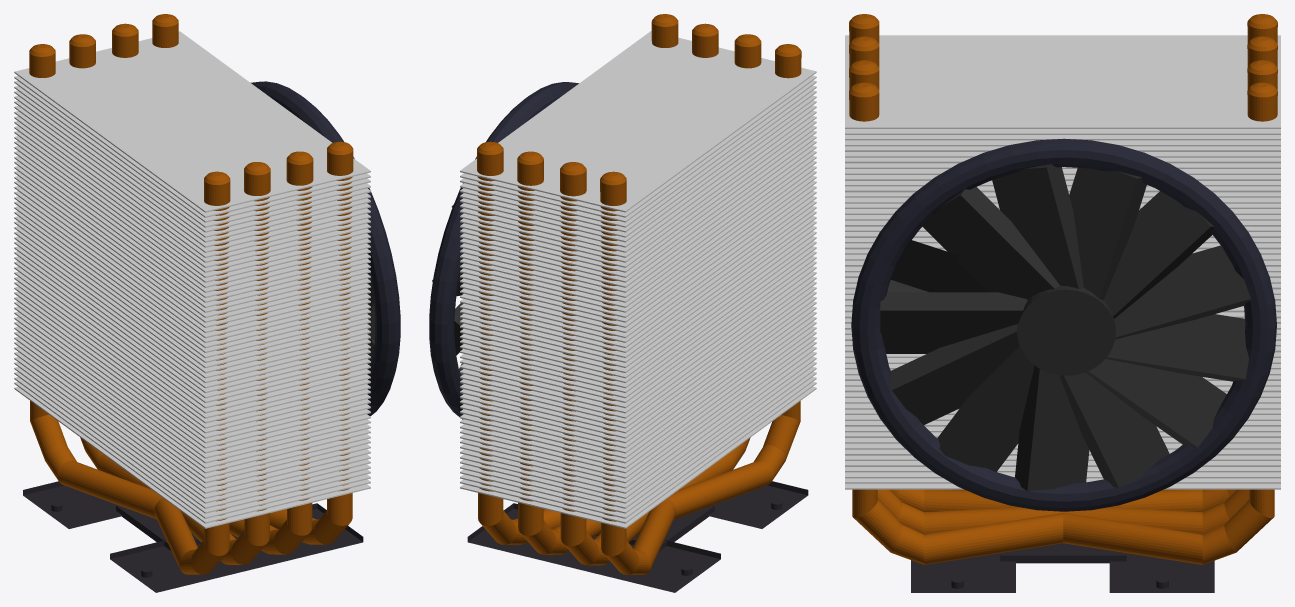
The model's file is Cooler CPU.glb.
The picture shows the model from 3 angles, left to right: view 1: azimuth 30°, elevation 25°; view 2: azimuth 150°, elevation 25°; view 3: azimuth 270°, elevation 25°; orthographic projection. The views are drawn at different scales.
Visible parts, largest first — view 1: Cooler CPU; view 2: Cooler CPU; view 3: Cooler CPU.
Boxes of the visible parts, x1,y1,x2,y2 form: Cooler CPU: (14, 14, 400, 592); Cooler CPU: (429, 14, 816, 592); Cooler CPU: (845, 14, 1280, 592).
Size of the model in its own units: 2.78 by 4.82 by 3.92.
